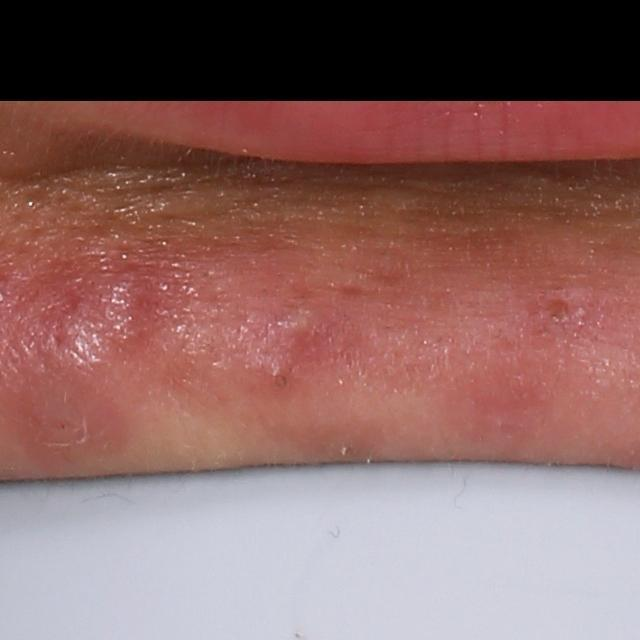nodule: (30, 259, 159, 389)
papule: (270, 298, 339, 360), (528, 292, 582, 339)
